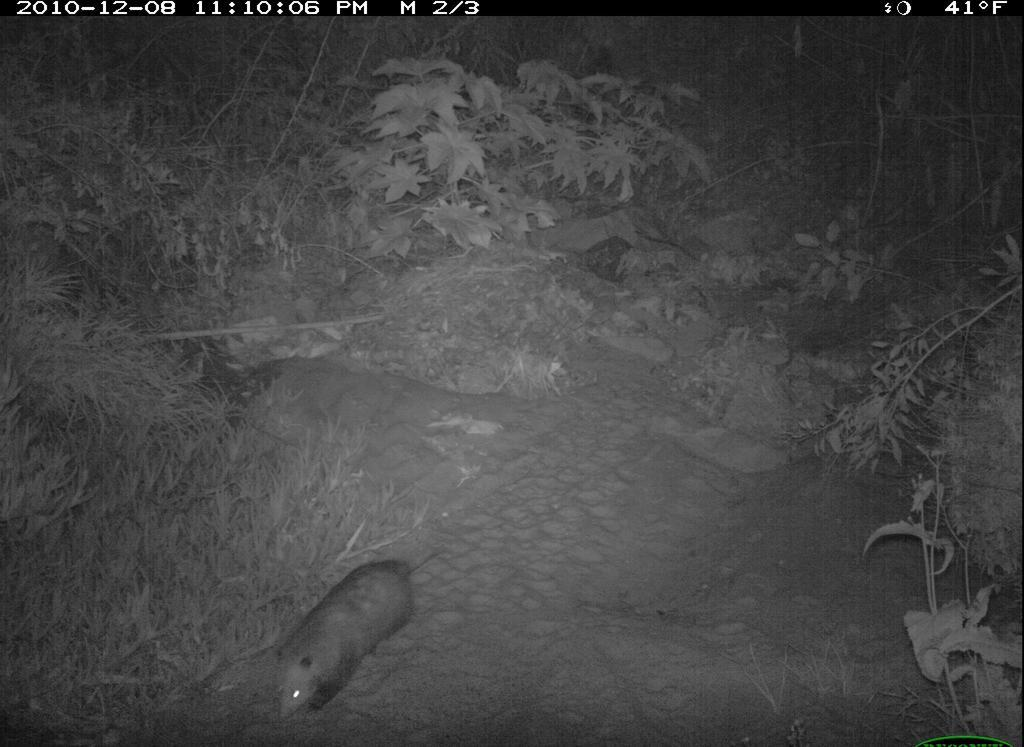opossum: (246, 527, 456, 744)
